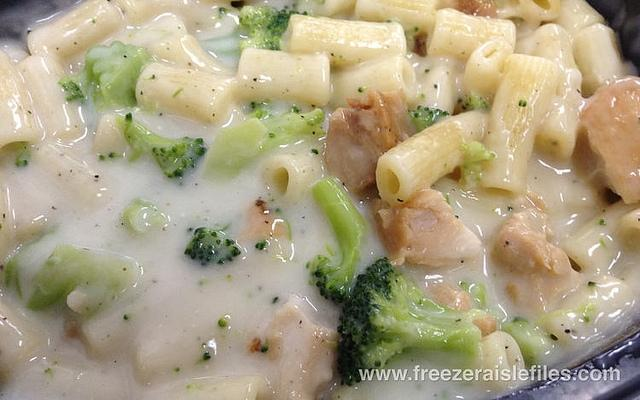broccoli: (336, 258, 491, 386), (2, 234, 144, 321), (203, 104, 327, 182), (306, 178, 366, 304), (59, 42, 154, 109), (115, 112, 208, 178), (238, 5, 307, 52), (504, 317, 554, 368), (184, 224, 240, 266), (122, 196, 170, 236), (458, 141, 496, 191), (406, 105, 449, 133), (462, 95, 488, 110)
